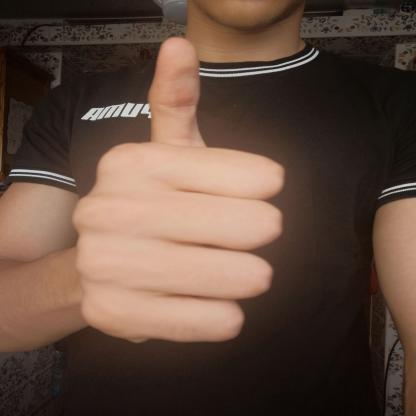ALIF: (53, 19, 316, 362)
